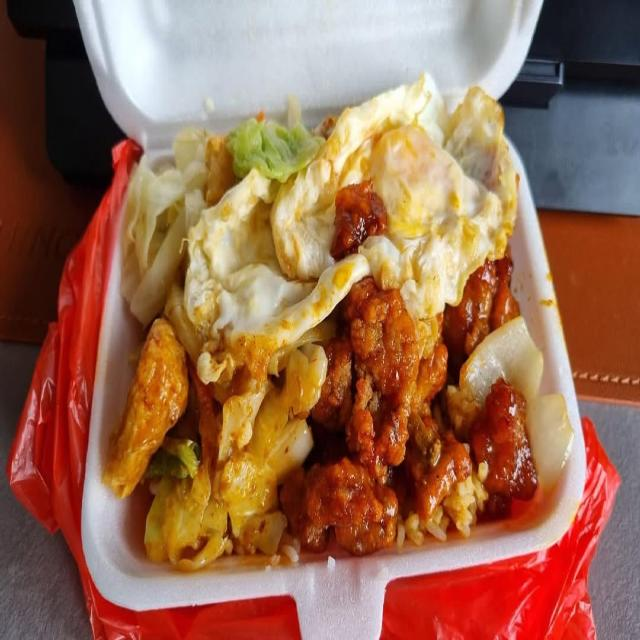Egg: (169, 75, 517, 384)
Green veg: (121, 101, 323, 356), (144, 334, 327, 568)
Pork: (281, 255, 536, 554), (330, 181, 388, 259)
